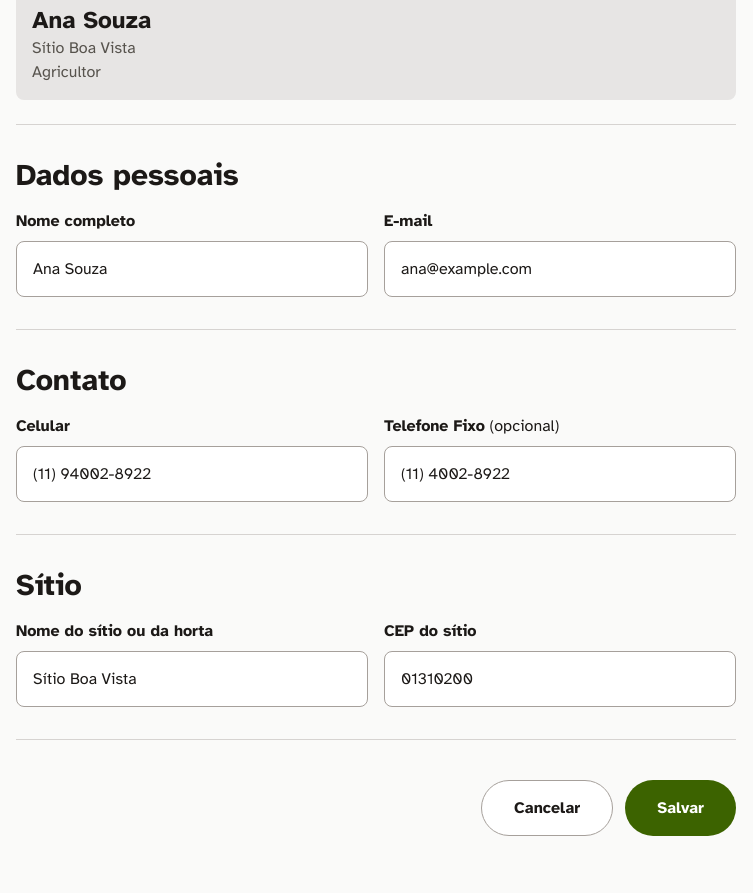
Scenario: MyProfile › forgets the error on cancel
The image size is (753, 893).
(page scrolled)
What coordinates should you click on to do the following:
click the button "Salvar"
I would click on:
 (681, 808)
Its box is [625,780,736,836].
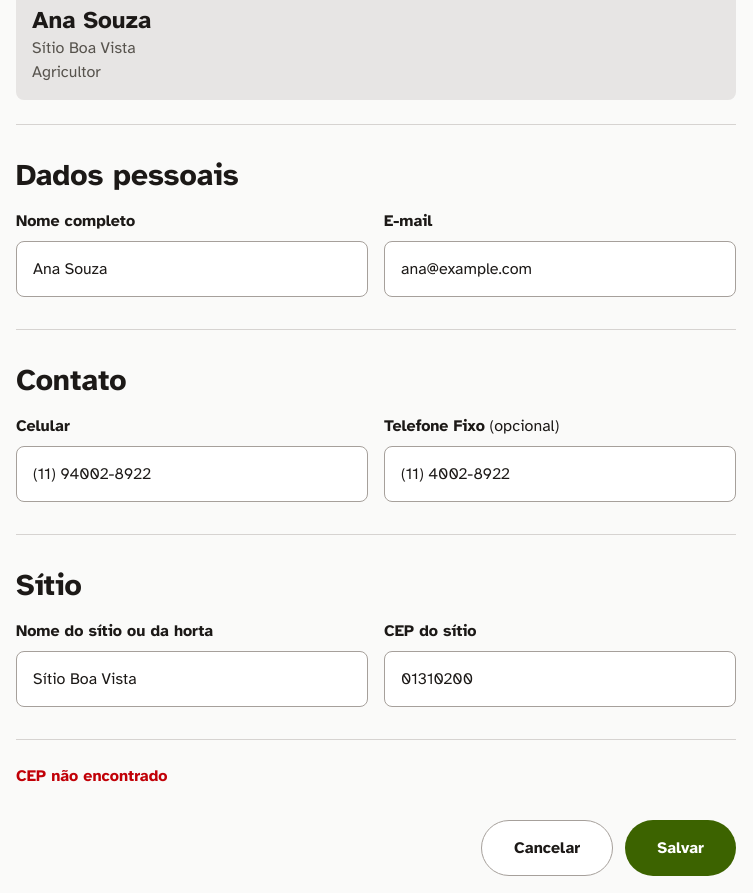
Now the message "CEP não encontrado" is shown, box [16,766,167,786]
What coordinates should you click on to do the following:
click the button "Cancelar"
I would click on:
 (547, 848)
Its box is [481,820,613,876].
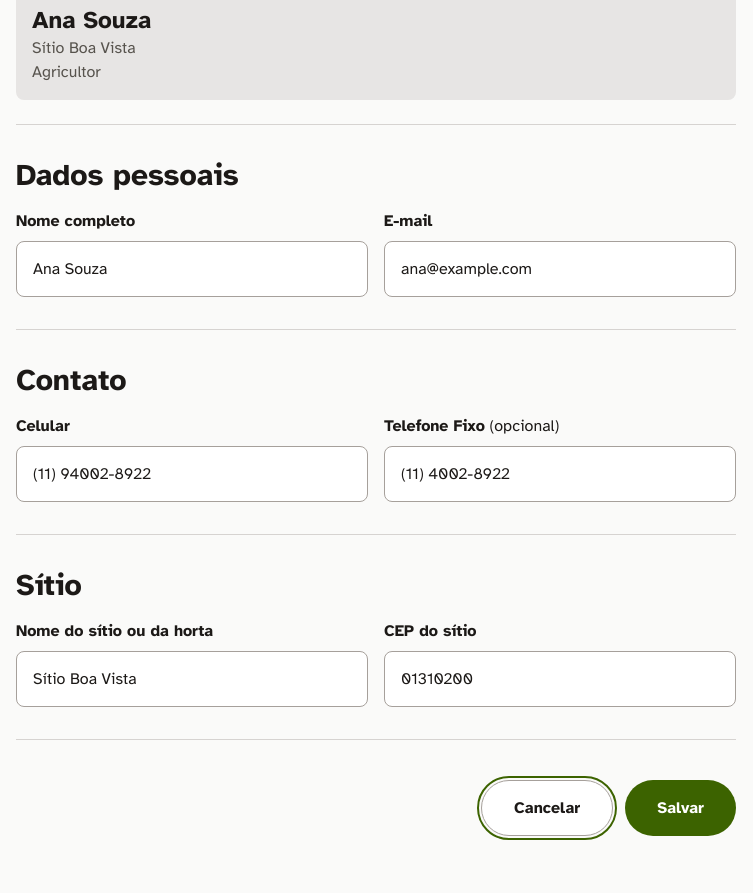
Now the message "CEP não encontrado" is gone
